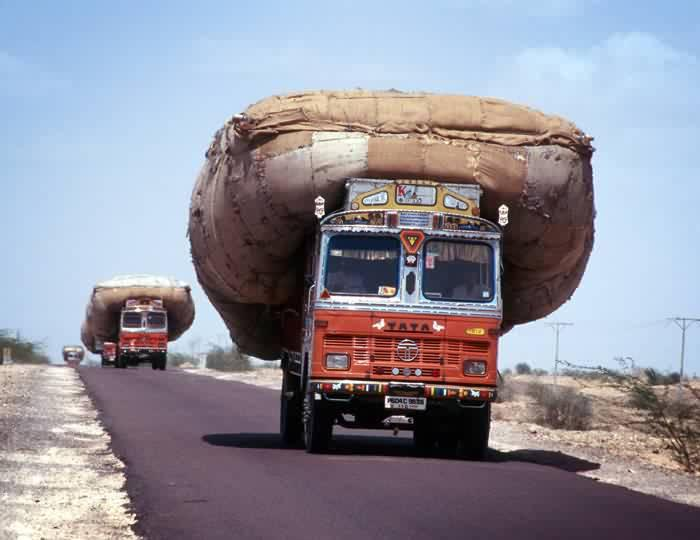Trucks: (281, 179, 501, 458), (114, 298, 167, 369), (62, 345, 84, 366), (100, 342, 117, 366)
